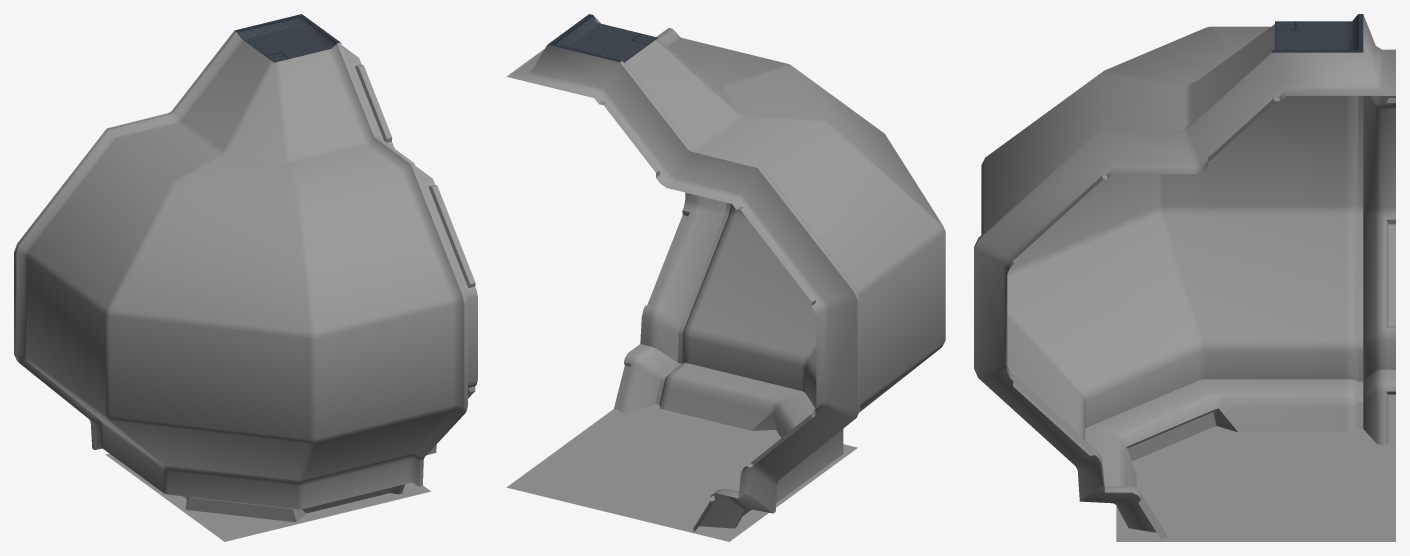
The model's file is Corr_A_corner_outer.fbx.
The picture shows the model from 3 angles, left to right: view 1: azimuth 30°, elevation 25°; view 2: azimuth 150°, elevation 25°; view 3: azimuth 270°, elevation 25°; orthographic projection. The views are drawn at different scales.
Parts seen in each view (by area): view 1: Corr_A_corner_outer; view 2: Corr_A_corner_outer; view 3: Corr_A_corner_outer.
Part boxes in pixels (left/top/right/bottom): Corr_A_corner_outer: left=14, top=14, right=477, bottom=541; Corr_A_corner_outer: left=506, top=14, right=945, bottom=541; Corr_A_corner_outer: left=974, top=14, right=1395, bottom=541.
Size of the model in its own units: 244 by 304 by 244.
Materials: 5 (1 with a texture image).
